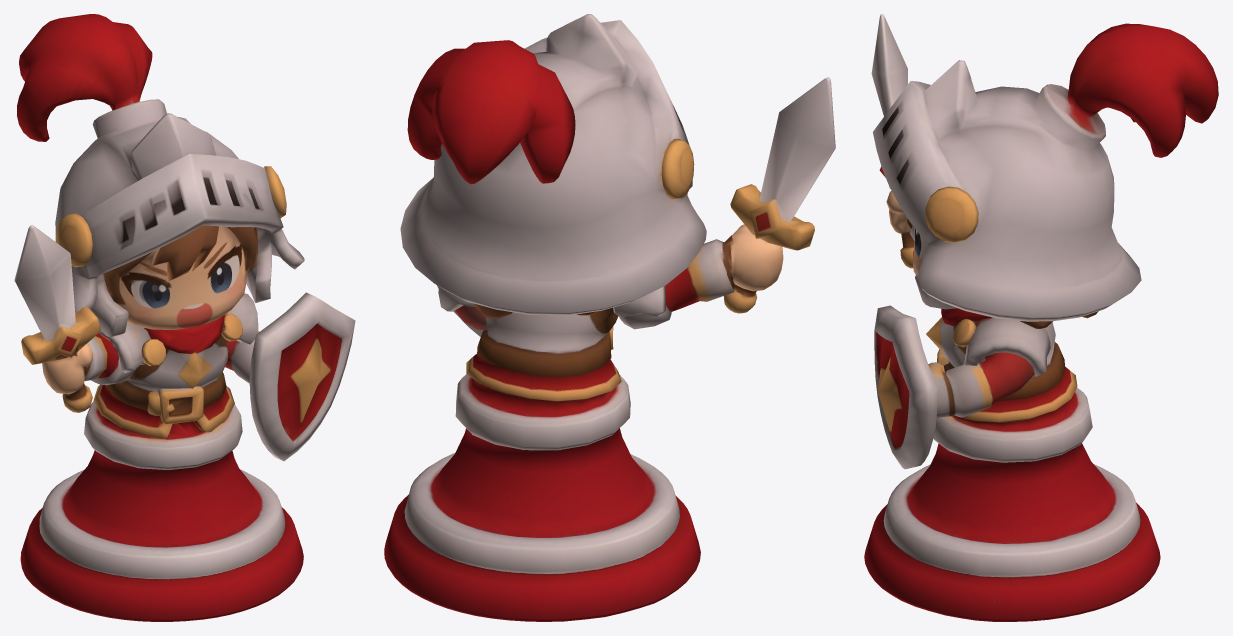
Rendered from warrior_2.glb.
The picture shows the model from 3 angles, left to right: view 1: azimuth 30°, elevation 25°; view 2: azimuth 150°, elevation 25°; view 3: azimuth 270°, elevation 25°; orthographic projection. The views are drawn at different scales.
Parts seen in each view (by area): view 1: tripo_node_392ffa3a-ae21-4db8-b075-065219a15519; view 2: tripo_node_392ffa3a-ae21-4db8-b075-065219a15519; view 3: tripo_node_392ffa3a-ae21-4db8-b075-065219a15519.
Part boxes in pixels (bbox=[...]): tripo_node_392ffa3a-ae21-4db8-b075-065219a15519: bbox=[14, 14, 355, 621]; tripo_node_392ffa3a-ae21-4db8-b075-065219a15519: bbox=[384, 14, 835, 621]; tripo_node_392ffa3a-ae21-4db8-b075-065219a15519: bbox=[864, 14, 1218, 621].
Bounding box in the file's own units: 0.7407 × 0.9995 × 0.6128.
Materials: 1 (1 with a texture image).
